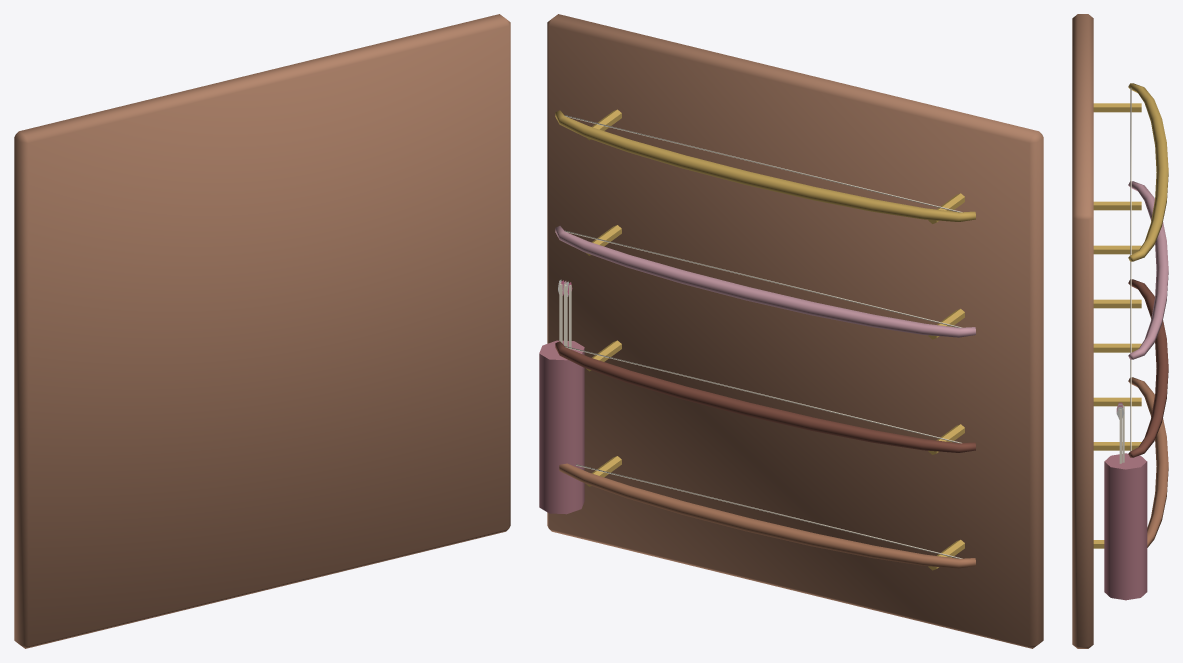
Rendered from bow_rack.glb.
3 renders of one model, left to right at view 1: azimuth 30°, elevation 25°; view 2: azimuth 150°, elevation 25°; view 3: azimuth 270°, elevation 25°, orthographic. The views are drawn at different scales.
Parts seen in each view (by area): view 1: bow_rack; view 2: bow_rack; view 3: bow_rack.
Part boxes in pixels (x1,y1,x2,y2): bow_rack: (14, 14, 510, 648); bow_rack: (539, 14, 1043, 648); bow_rack: (1072, 14, 1168, 648).
Size of what is drawn, in the model's own units: 2 by 2 by 0.4.
